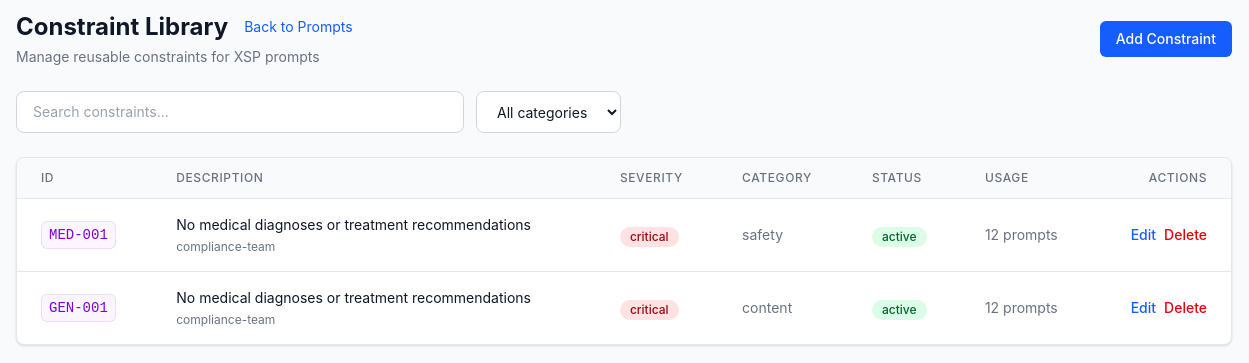
Test: ConstraintLibrary › filters constraints by category
Expected: the text "MED-001" is shown, 41,221 -> 116,249
Select "content" in the dropdown named "Filter by category" at (548, 112), box 476,91 -> 621,133
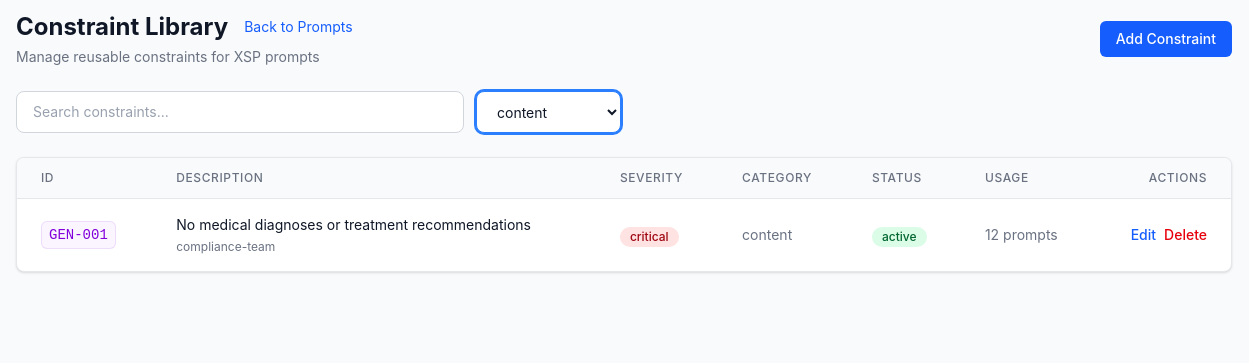
Expected: the text "GEN-001" is shown, 41,221 -> 116,249
Expected: the text "MED-001" is gone
